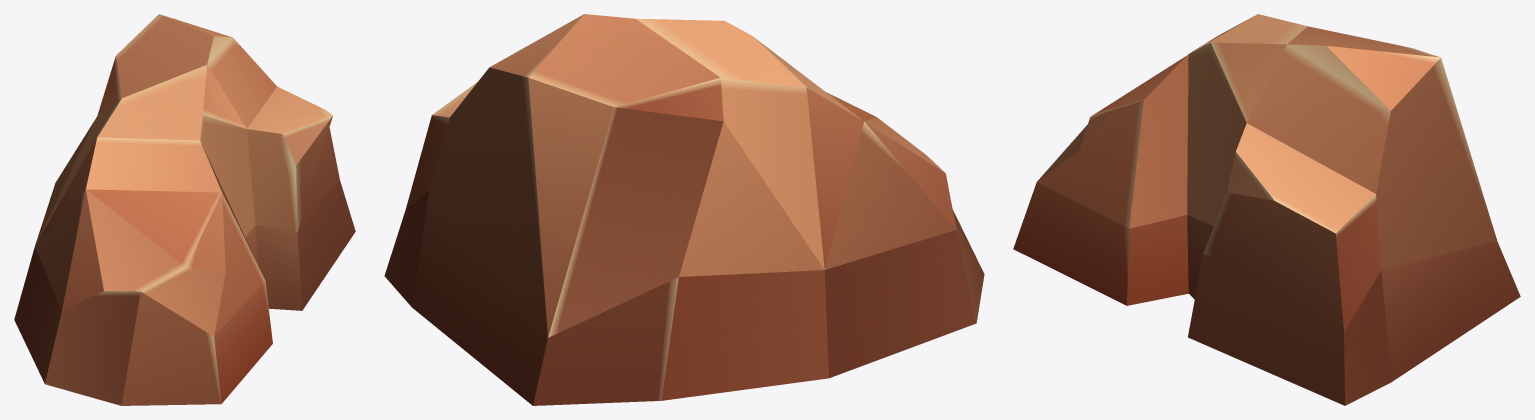
File: DesertMountain_01.fbx
The picture shows the model from 3 angles, left to right: view 1: azimuth 30°, elevation 25°; view 2: azimuth 150°, elevation 25°; view 3: azimuth 270°, elevation 25°; orthographic projection. The views are drawn at different scales.
Parts seen in each view (by area): view 1: DesertMountain_01; view 2: DesertMountain_01; view 3: DesertMountain_01.
Part boxes in pixels (left/top/right/bottom): DesertMountain_01: left=14, top=14, right=355, bottom=405; DesertMountain_01: left=384, top=14, right=984, bottom=405; DesertMountain_01: left=1013, top=14, right=1520, bottom=405.
Size of the model in its own units: 7799 by 4551 by 7600.
